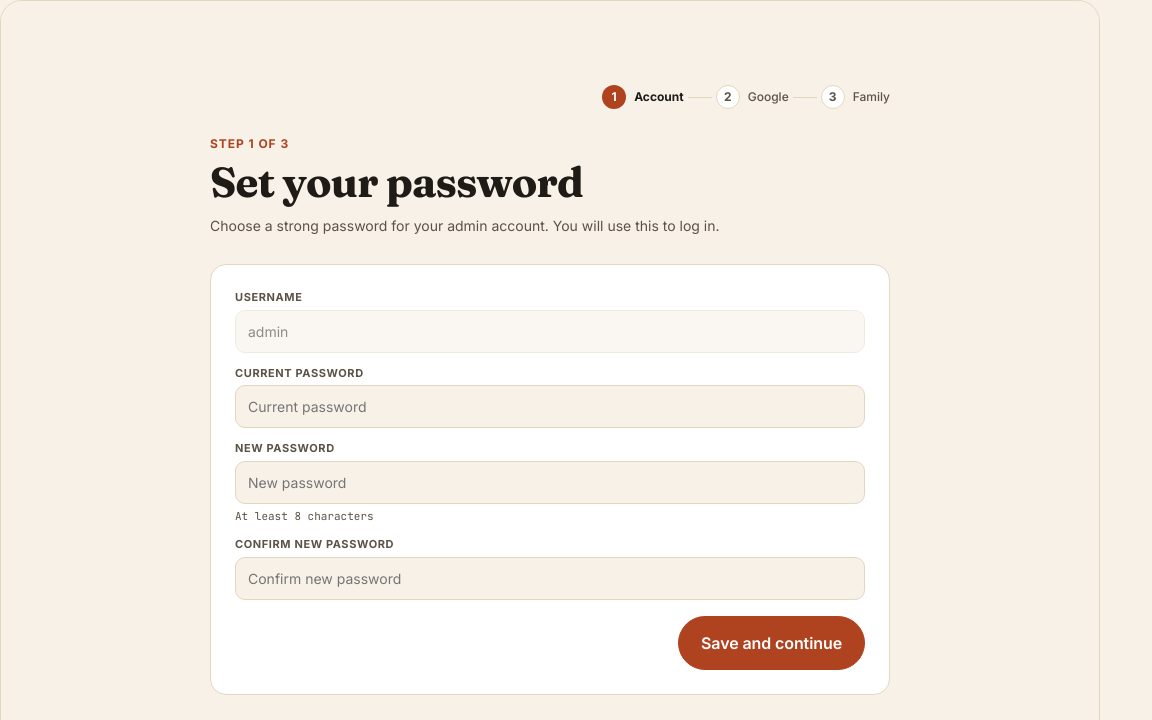
Scenario: Setup (wizard step 1) › wrong current password → server 400 → shows inline error
This screenshot has width=1152, height=720.
Expected: the button "Save and continue" is shown, x1=678 y1=616 x2=865 y2=670
In the password field with placeholder "Current password": (550, 407) x1=235 y1=385 x2=865 y2=428, type "wrongpassword"
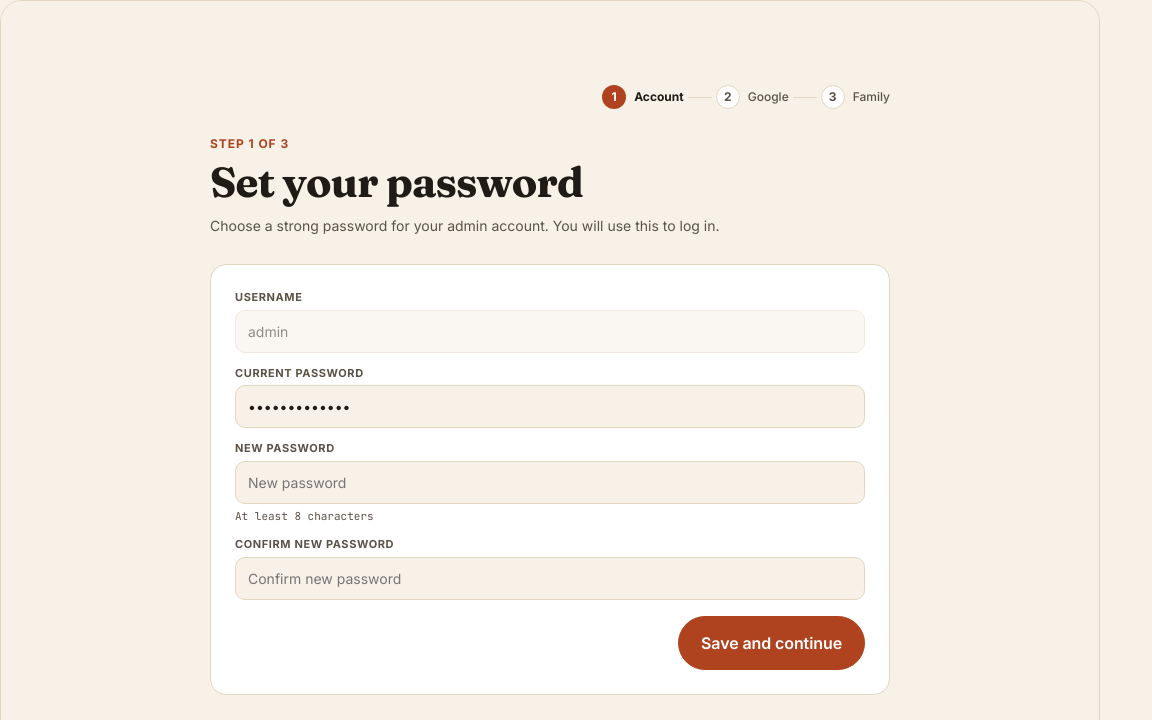
In the password field with placeholder "New password": (550, 482) x1=235 y1=461 x2=865 y2=504, type "newpassword1"
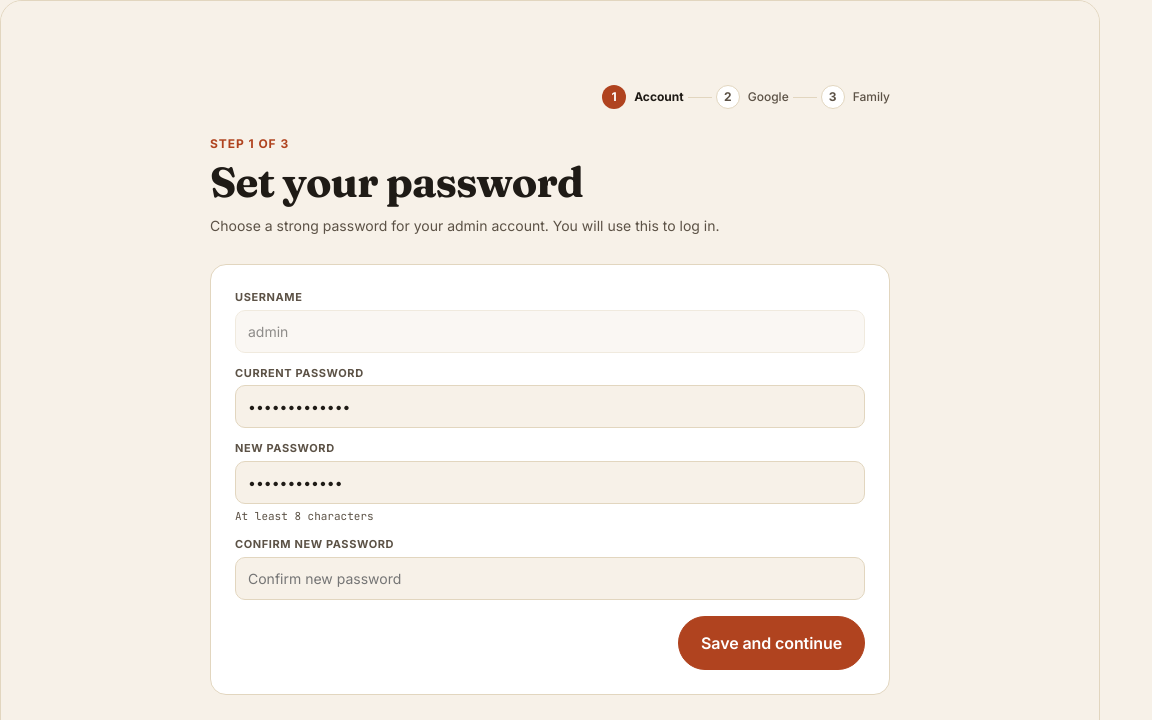
In the password field with placeholder "Confirm new password": (550, 578) x1=235 y1=557 x2=865 y2=600, type "newpassword1"
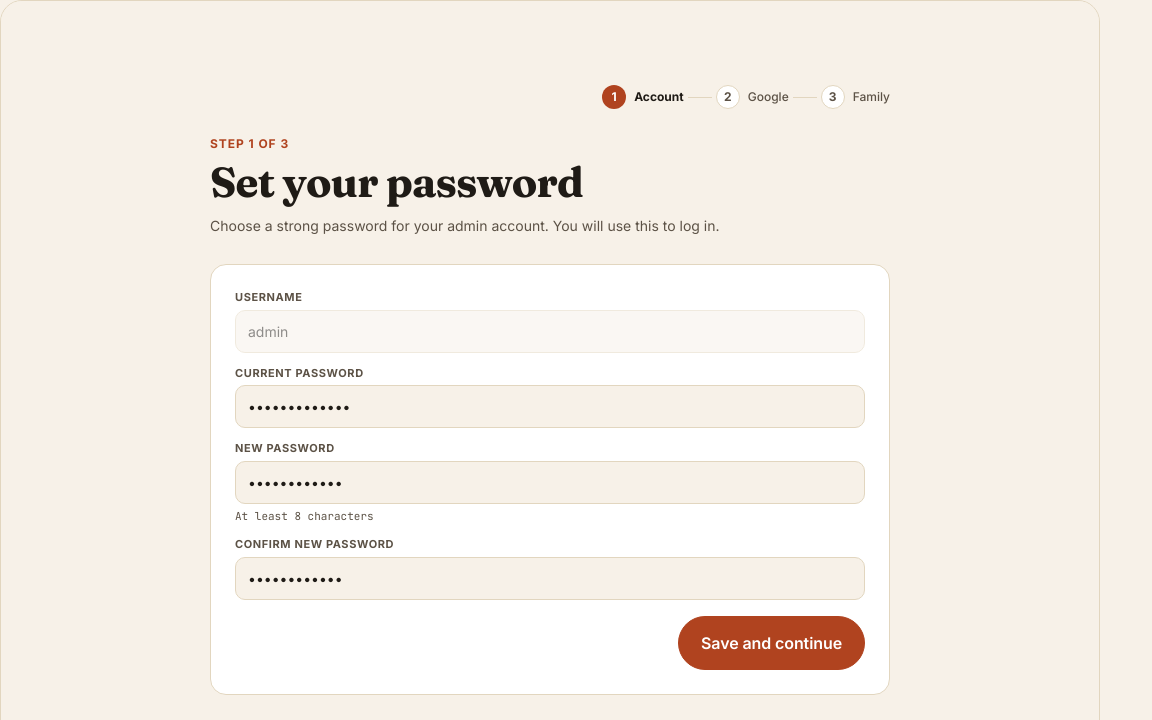
Click the button "Save and continue": (772, 643) x1=678 y1=616 x2=865 y2=670
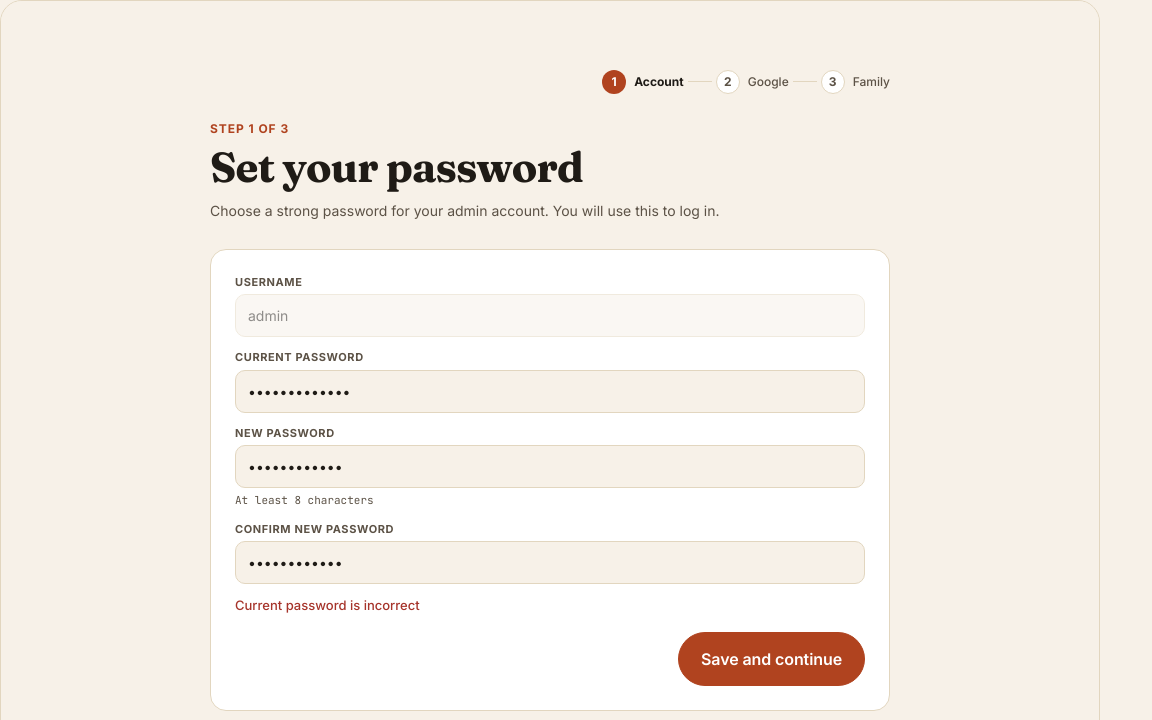
Now the text "Current password is incorrect" is shown, box x1=235 y1=597 x2=420 y2=613
